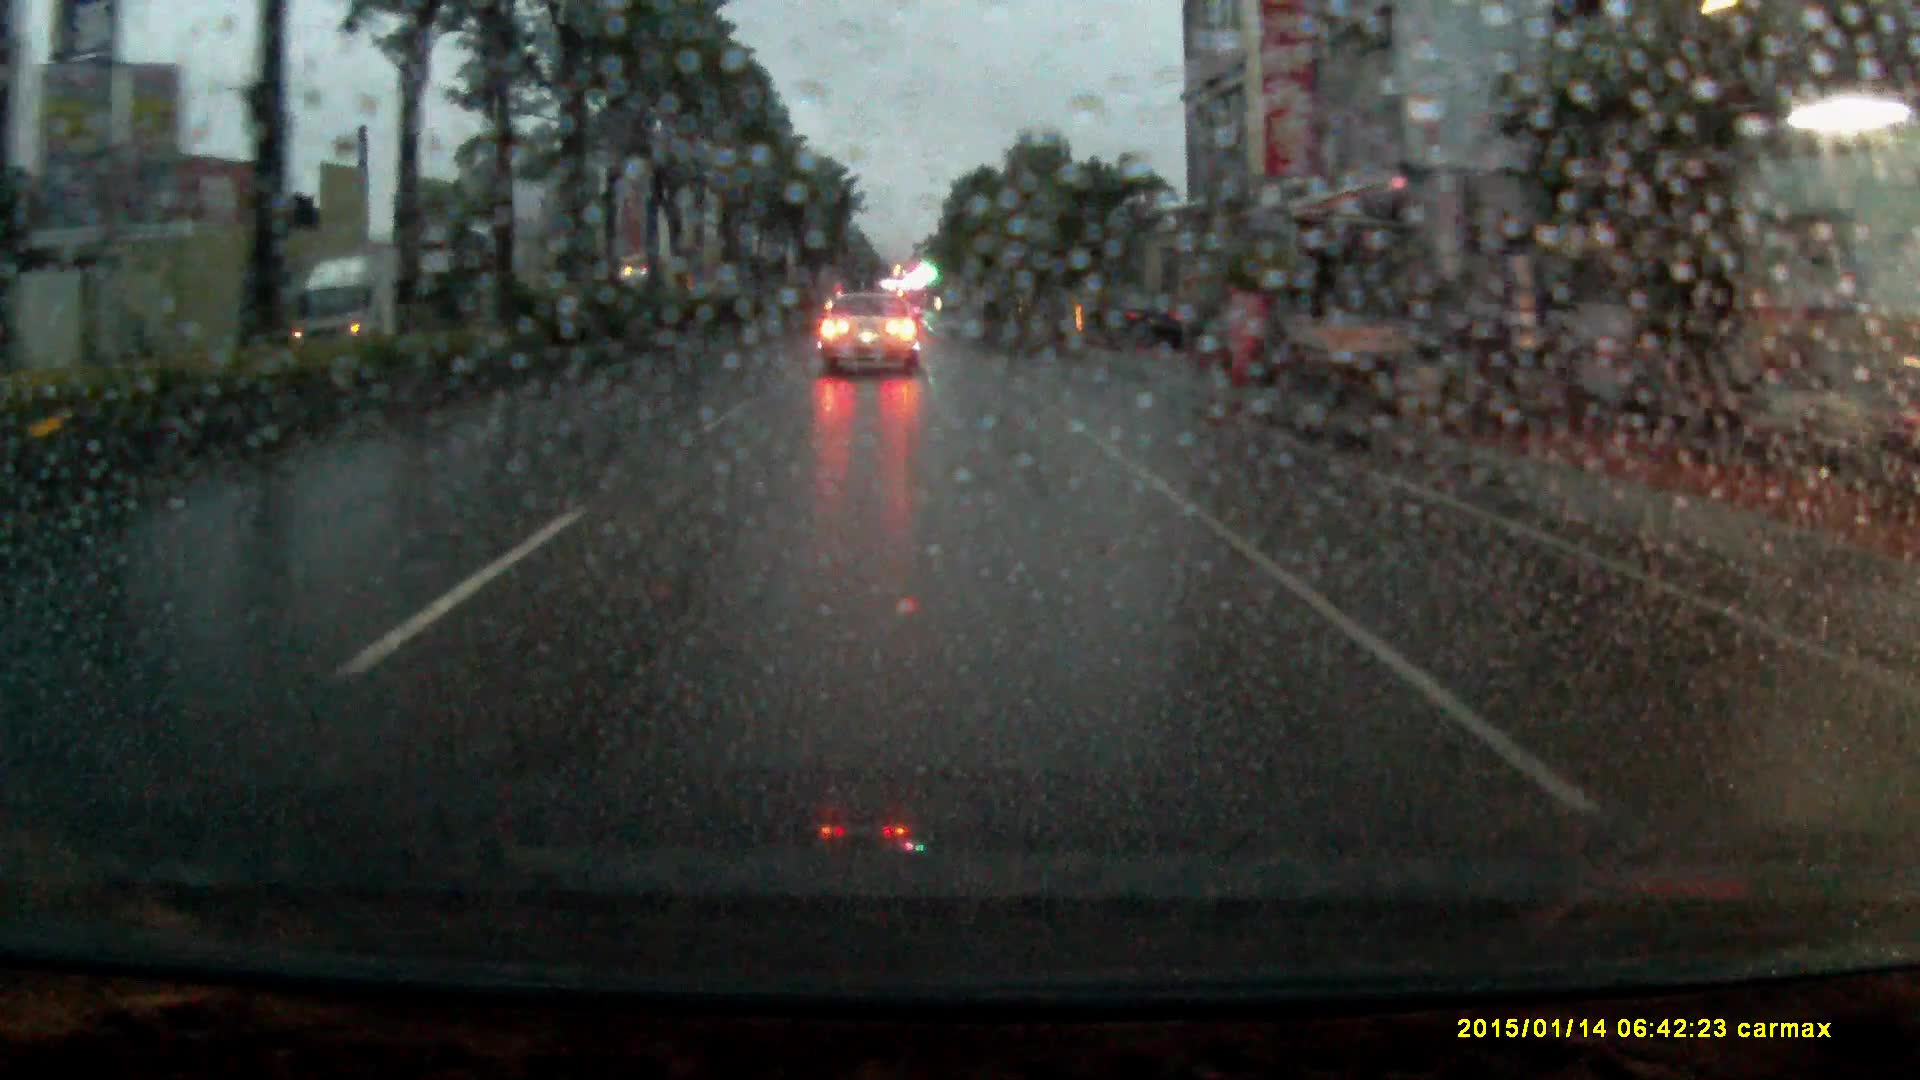vehicle: (287, 245, 456, 339), (822, 291, 922, 378), (1102, 294, 1188, 349)
